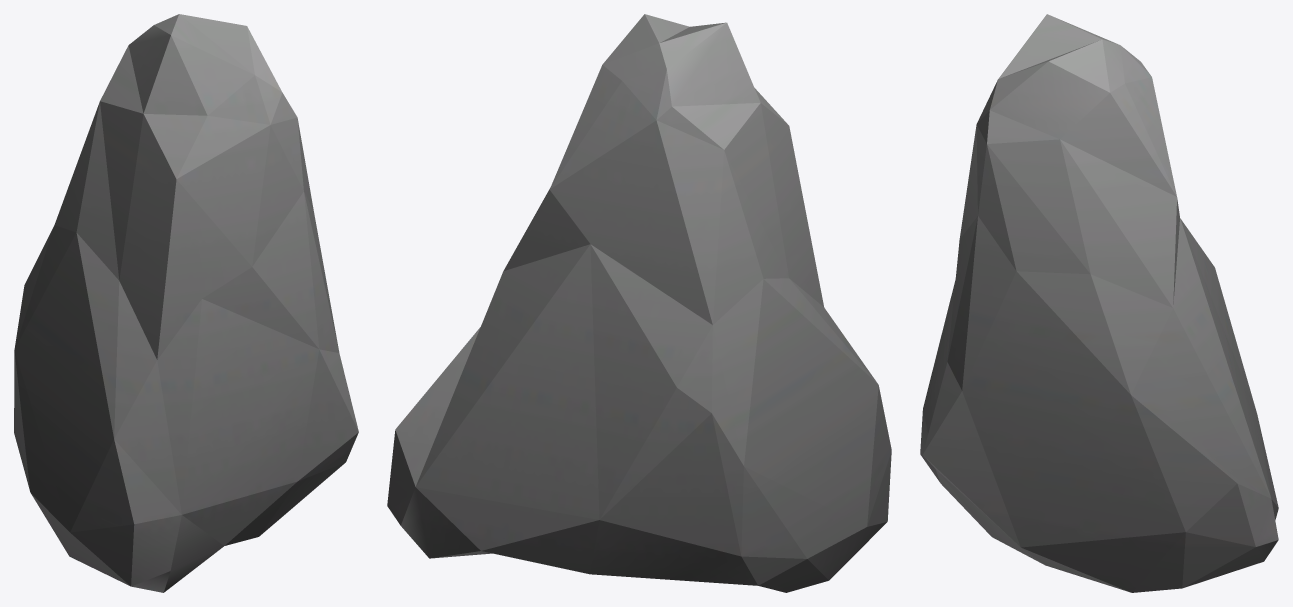
The picture shows the model from 3 angles, left to right: view 1: azimuth 30°, elevation 25°; view 2: azimuth 150°, elevation 25°; view 3: azimuth 270°, elevation 25°; orthographic projection. The views are drawn at different scales.
Parts seen in each view (by area): view 1: Rock; view 2: Rock; view 3: Rock.
Boxes of the visible parts, <box> form: Rock: <box>14,14,358,592</box>; Rock: <box>387,14,891,592</box>; Rock: <box>920,14,1278,592</box>.
Size of the model in its own units: 5.31 by 7.75 by 4.94.
1 material, 1 textured.
